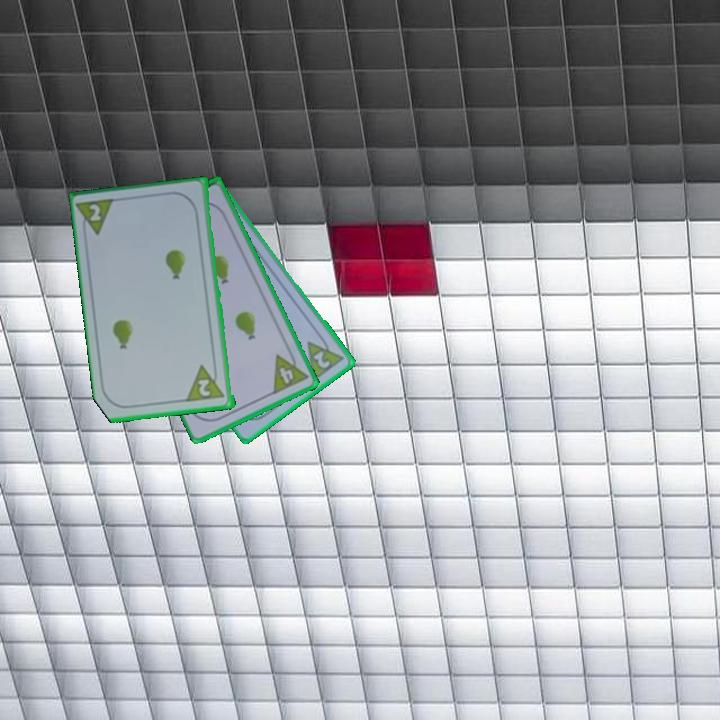2p: (304, 330, 347, 384), (195, 376, 214, 400), (86, 200, 104, 224)
4p: (269, 345, 311, 397)
